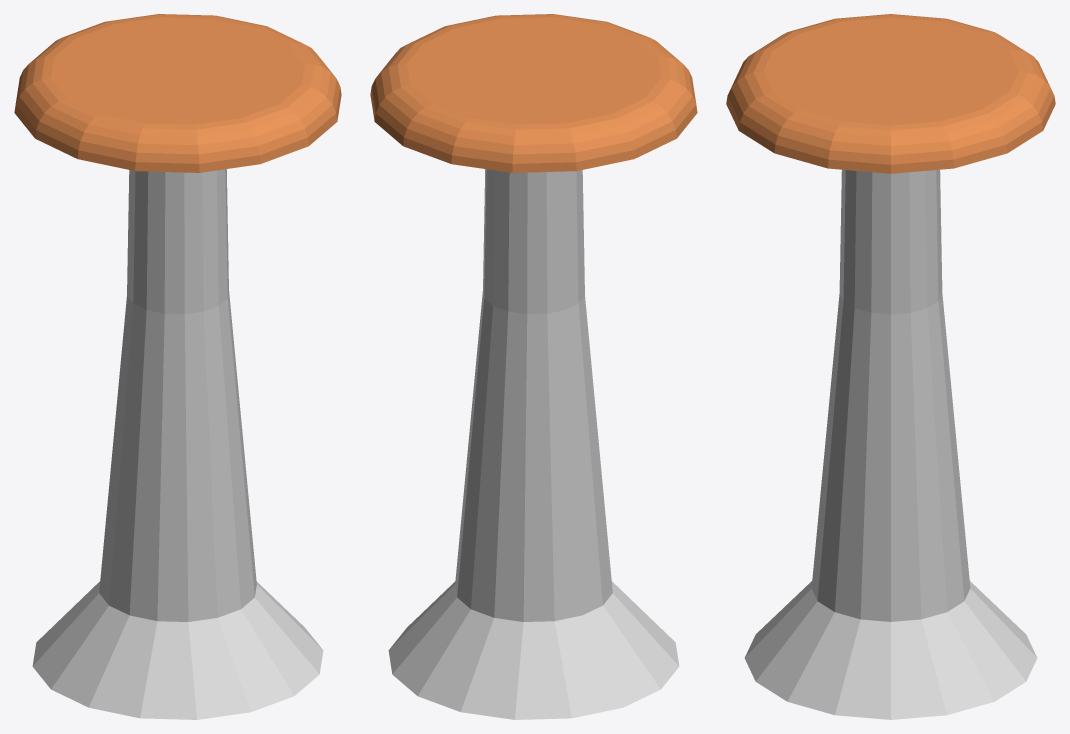
File: Fountain.fbx
The picture shows the model from 3 angles, left to right: view 1: azimuth 30°, elevation 25°; view 2: azimuth 150°, elevation 25°; view 3: azimuth 270°, elevation 25°; orthographic projection.
Visible parts, largest first — view 1: Circle; view 2: Circle; view 3: Circle.
Part boxes in pixels (x1,y1,x2,y2): Circle: [14, 14, 341, 719]; Circle: [370, 14, 697, 719]; Circle: [726, 14, 1055, 719].
Size of the model in its own units: 450 by 884 by 450.
